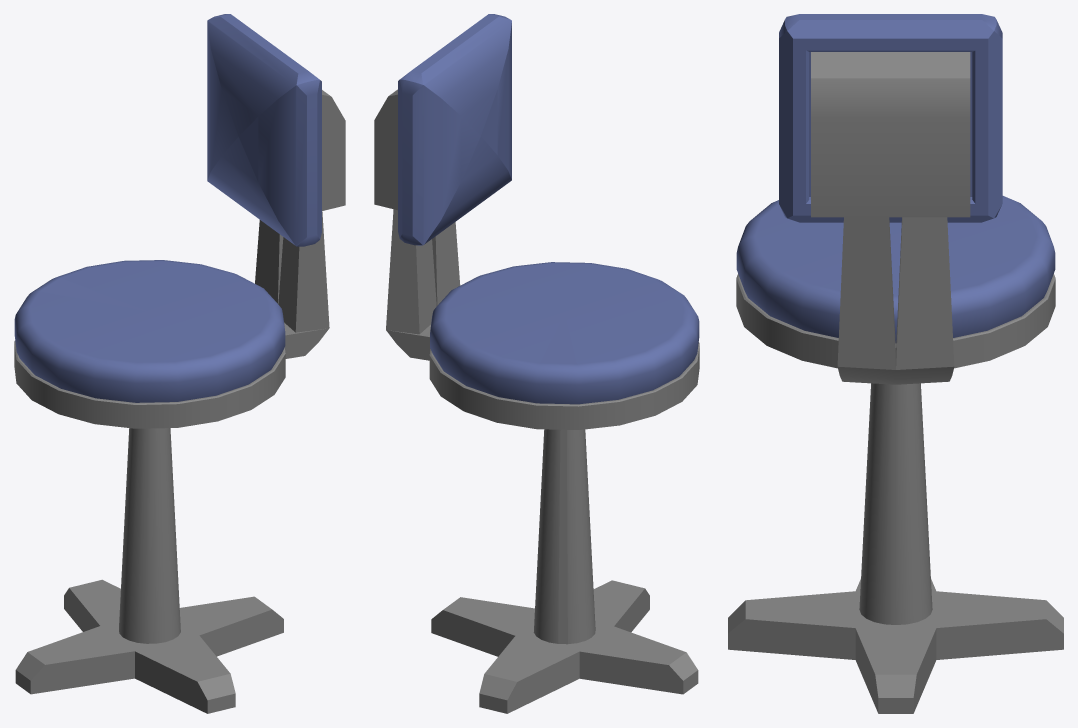
File: chair_2 1.fbx
3 renders of one model, left to right at view 1: azimuth 30°, elevation 25°; view 2: azimuth 150°, elevation 25°; view 3: azimuth 270°, elevation 25°, orthographic. The views are drawn at different scales.
Parts seen in each view (by area): view 1: room:pCube21; view 2: room:pCube21; view 3: room:pCube21.
Boxes of the visible parts, x1,y1,x2,y2 form: room:pCube21: (14,14,345,713); room:pCube21: (374,14,699,713); room:pCube21: (728,14,1063,713).
Bounding box in the file's own units: 531 × 1041 × 460.
